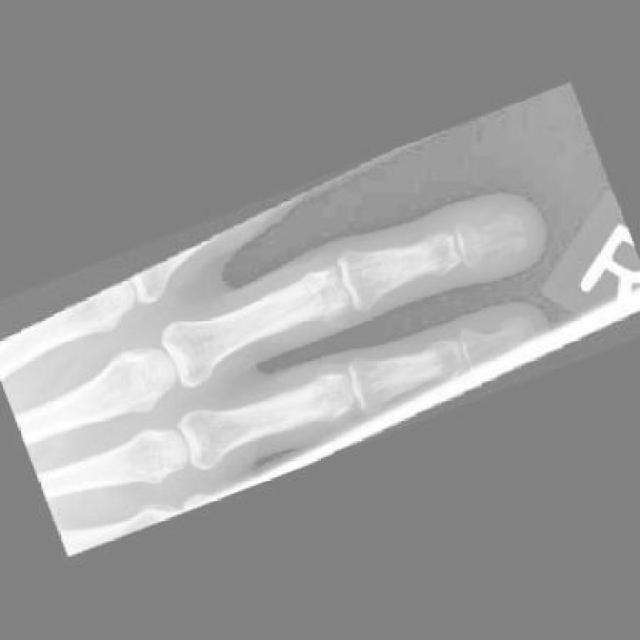Fracture: (474, 203, 536, 265), (492, 312, 540, 357)
